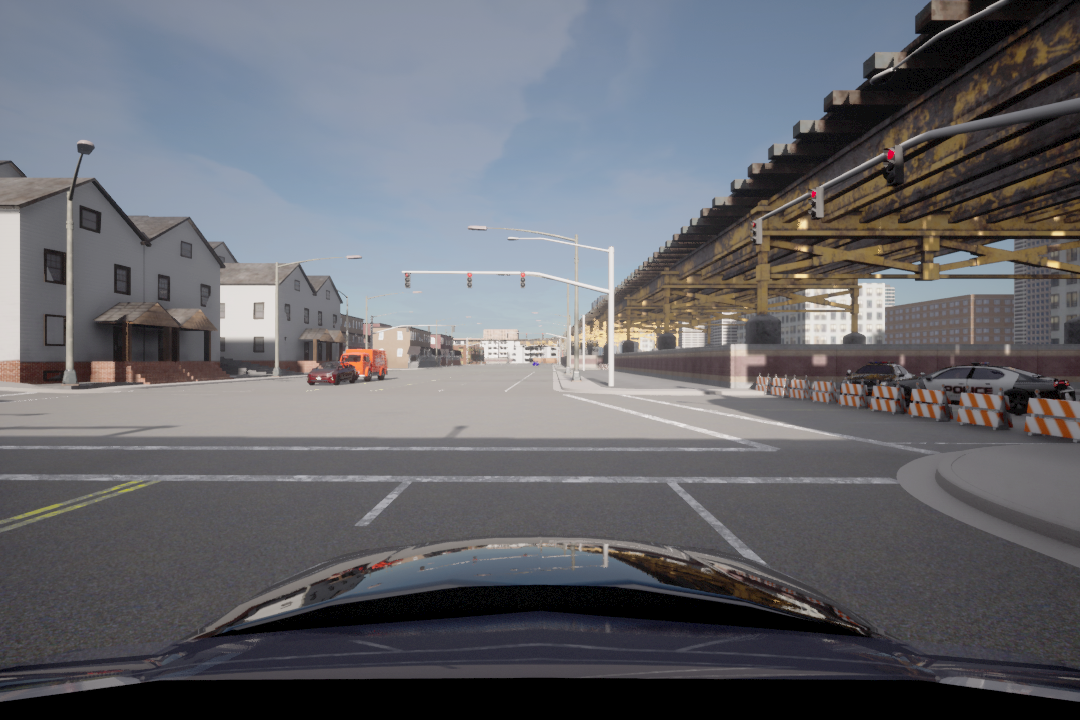RoadSign_forward: (747, 220, 763, 250), (515, 267, 530, 291), (401, 267, 411, 291), (461, 269, 472, 289)
TrafficLight: (882, 144, 906, 191), (804, 185, 824, 218)
